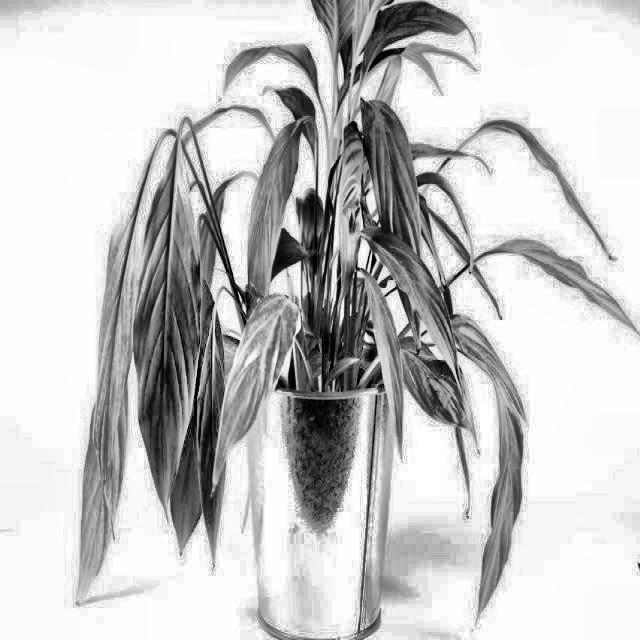plants: (70, 121, 571, 607)
